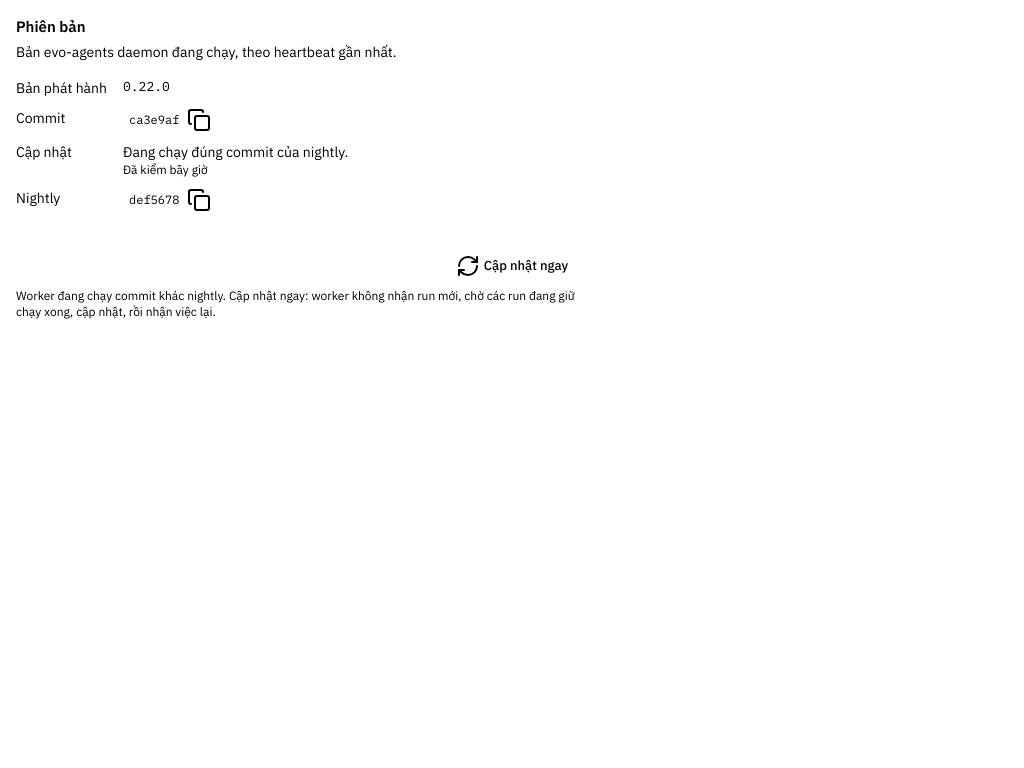
Test: UpdateNow › says a 409 in a toast with the hub's reason
Click the button "Cập nhật ngay".
click(512, 266)  # box left=16, top=252, right=1008, bottom=280
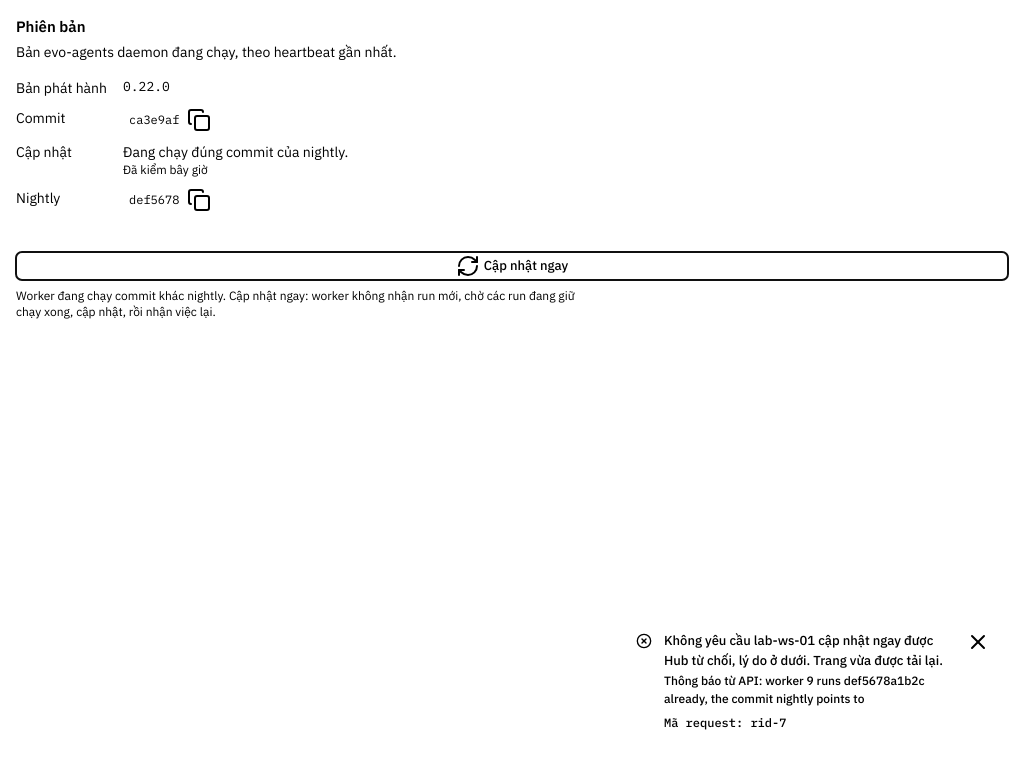
Now the text "Không yêu cầu lab-ws-01 cập nhật ngay được" is shown, box left=664, top=632, right=952, bottom=650
Now the text "runs def5678a1b2c already" is shown, box left=664, top=673, right=925, bottom=706
